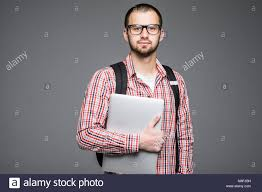Indian_Male: (126, 8, 163, 57)
